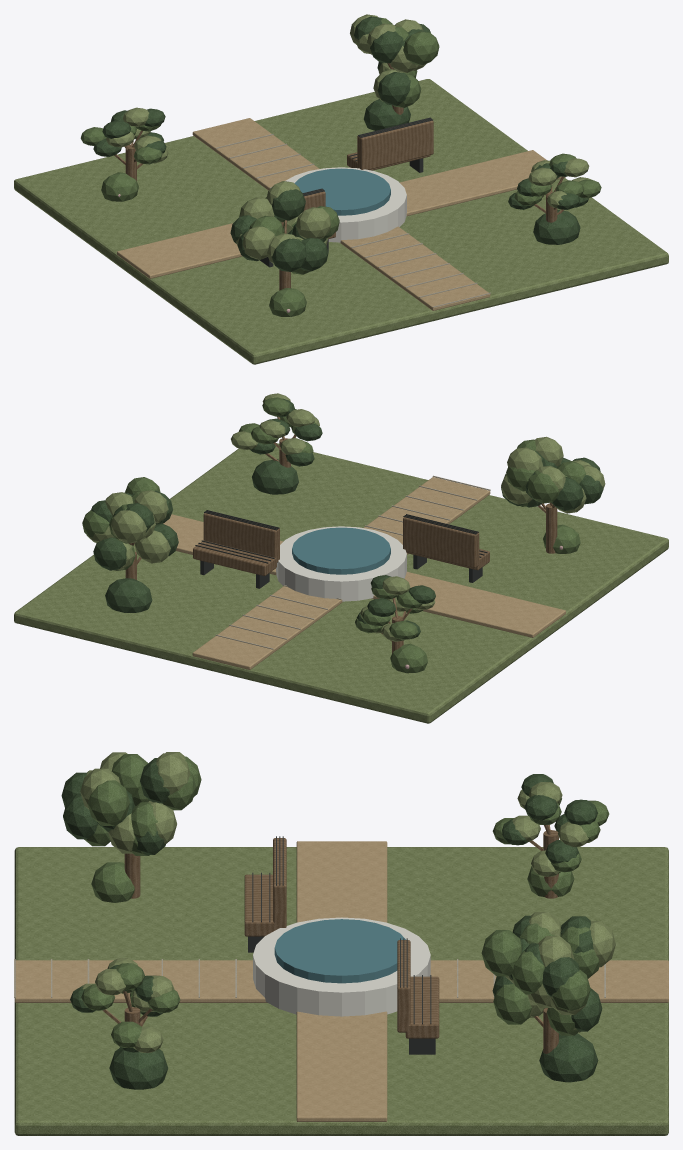
The model's file is PARK_2x2_001.glb.
3 views of the same model, one above another, from view 1: azimuth 30°, elevation 25°; view 2: azimuth 150°, elevation 25°; view 3: azimuth 270°, elevation 25° (orthographic). The views are drawn at different scales.
Visible parts, largest first — view 1: PARK_2x2_001_Visual; view 2: PARK_2x2_001_Visual; view 3: PARK_2x2_001_Visual.
Boxes of the visible parts, box(x1,y1,x2,y2) form: PARK_2x2_001_Visual: box(14, 14, 668, 364); PARK_2x2_001_Visual: box(14, 393, 668, 723); PARK_2x2_001_Visual: box(14, 752, 668, 1135).
Size of what is drawn, in the model's own units: 3.9 by 1.09 by 3.9.
Materials: 11 (8 with a texture image).
